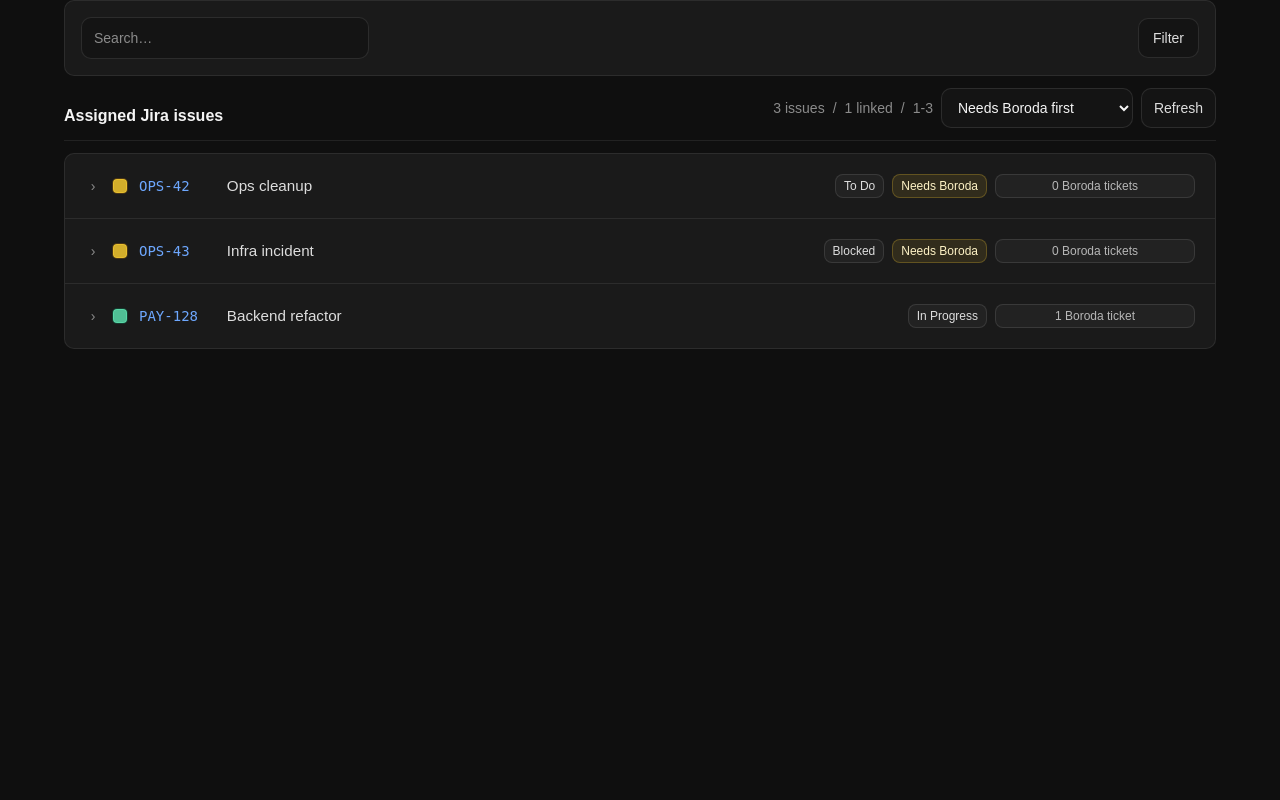
Scenario: JiraPage › supports filtering by multiple Jira statuses at the same time
The image size is (1280, 800).
Click the button "Filter" at (1168,38), box [1138,18,1199,58]
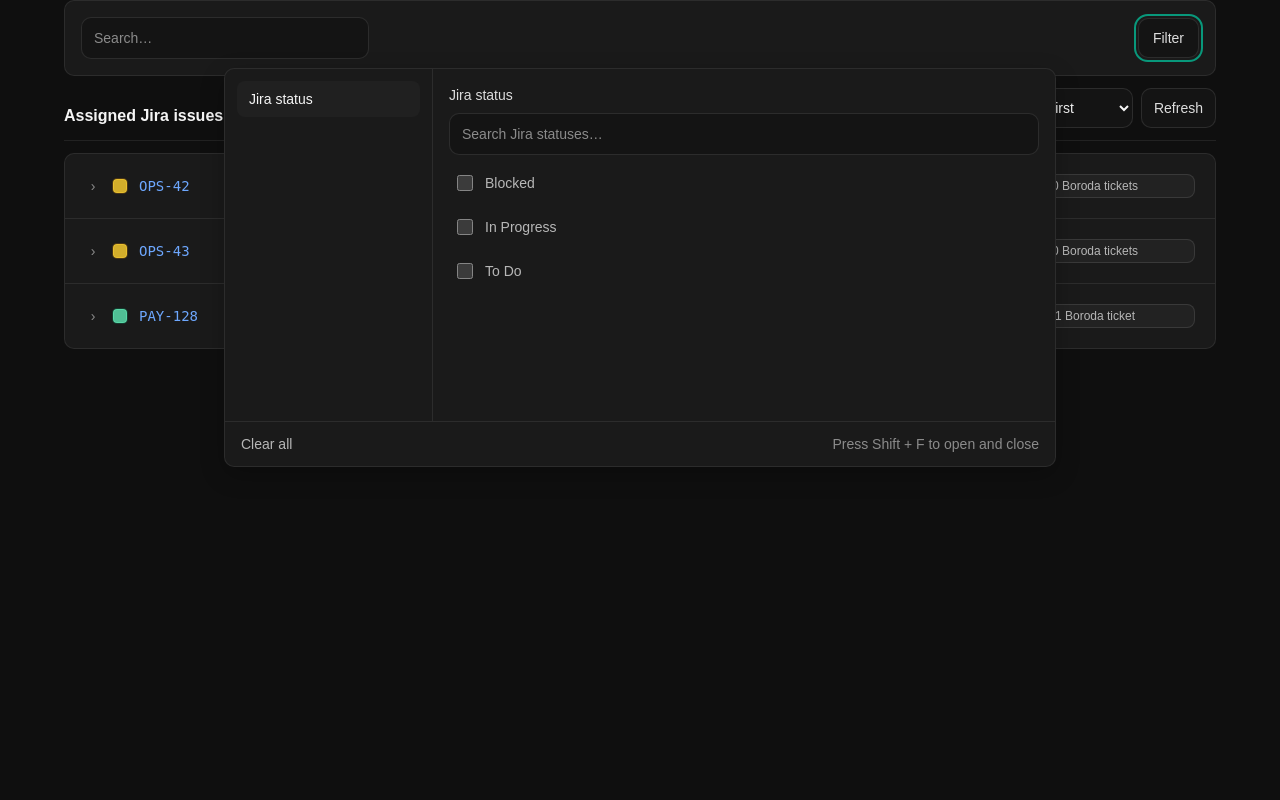
Click the checkbox labelled "To Do" at (465,271), box [457,263,473,279]
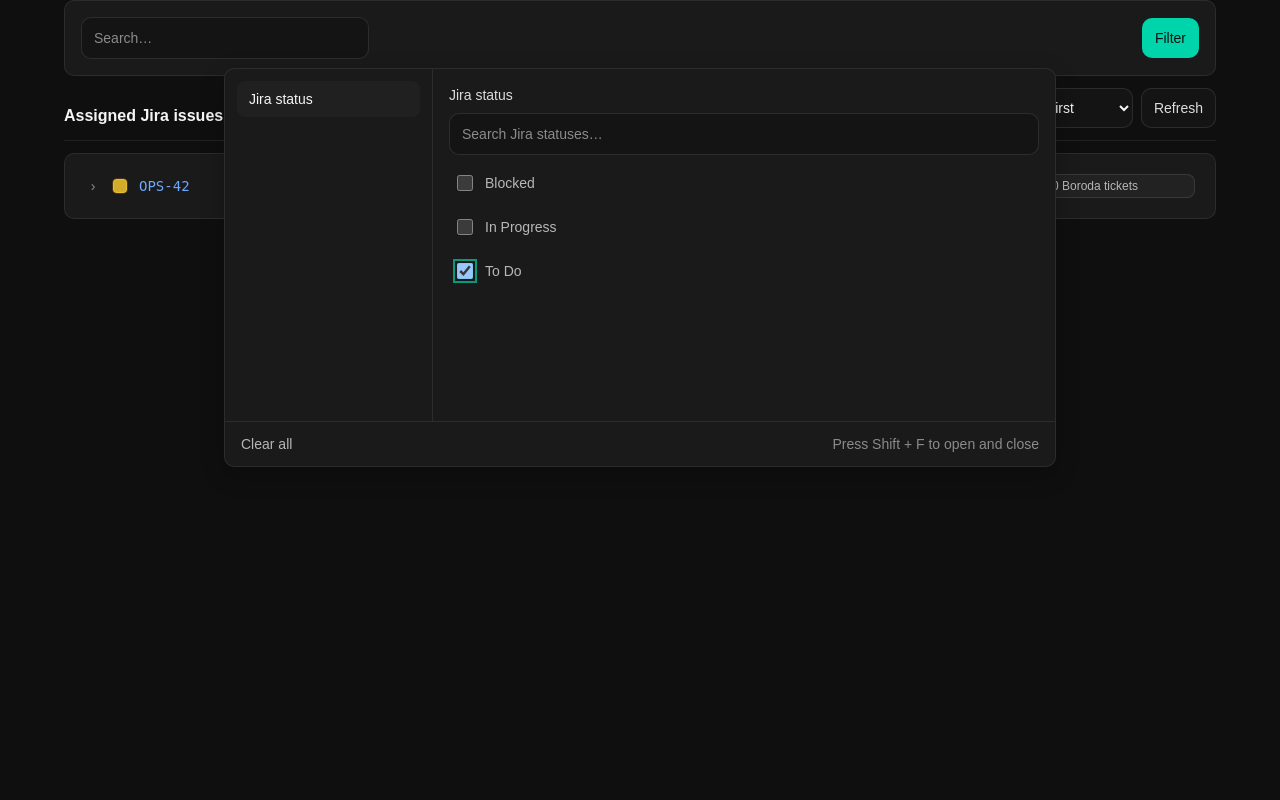
Click the checkbox labelled "Blocked" at (465,183), box [457,175,473,191]
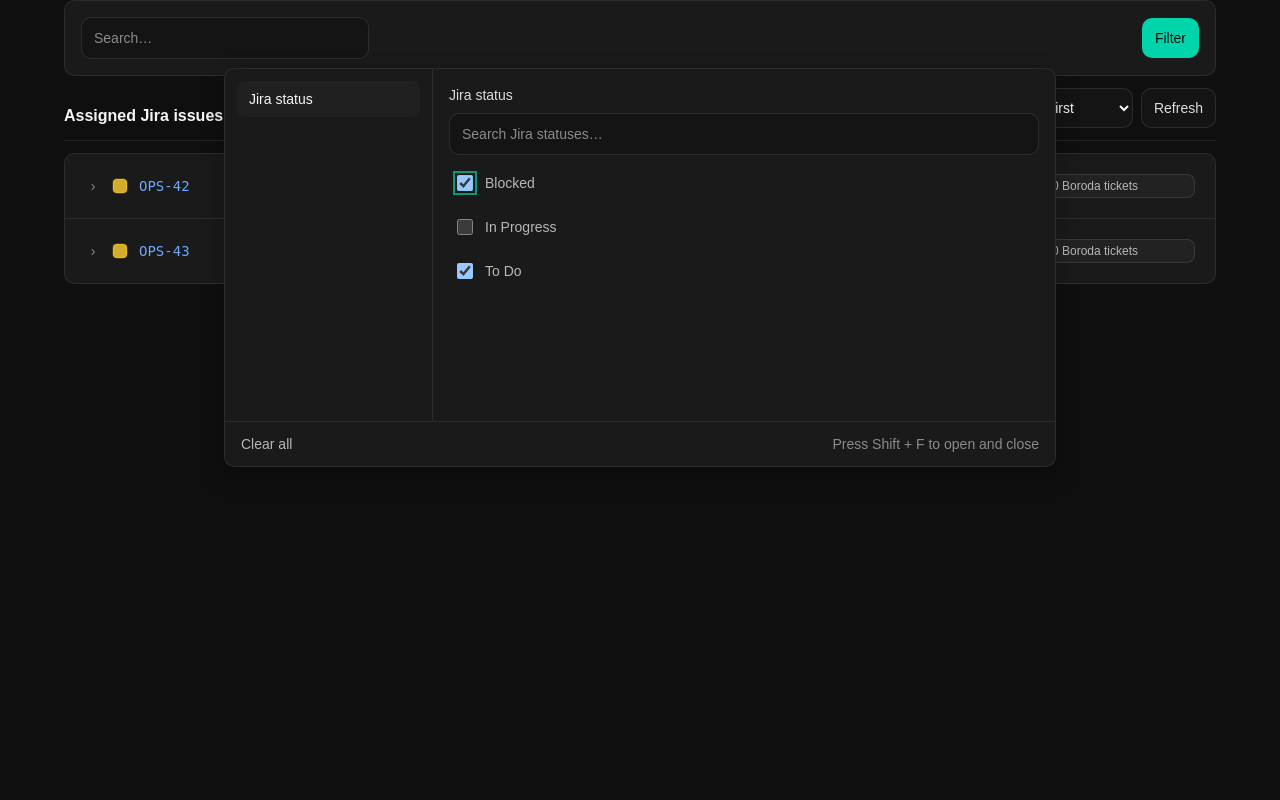
Expected: the link with aria-label "Open Jira issue OPS-42" is shown, [139,178,190,194]
Result: the link with aria-label "Open Jira issue OPS-43" is shown at [139,243,190,259]
